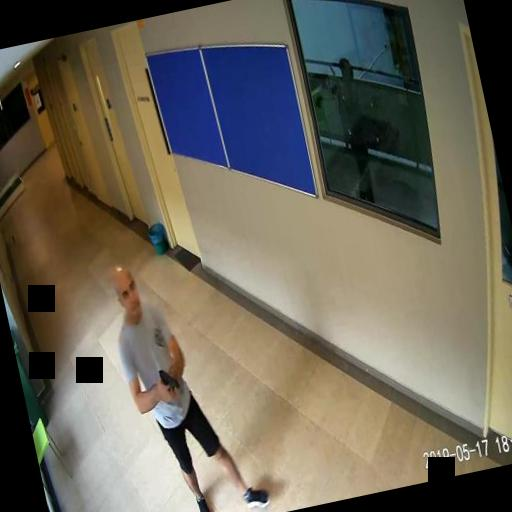Handgun: (156, 366, 180, 400)
